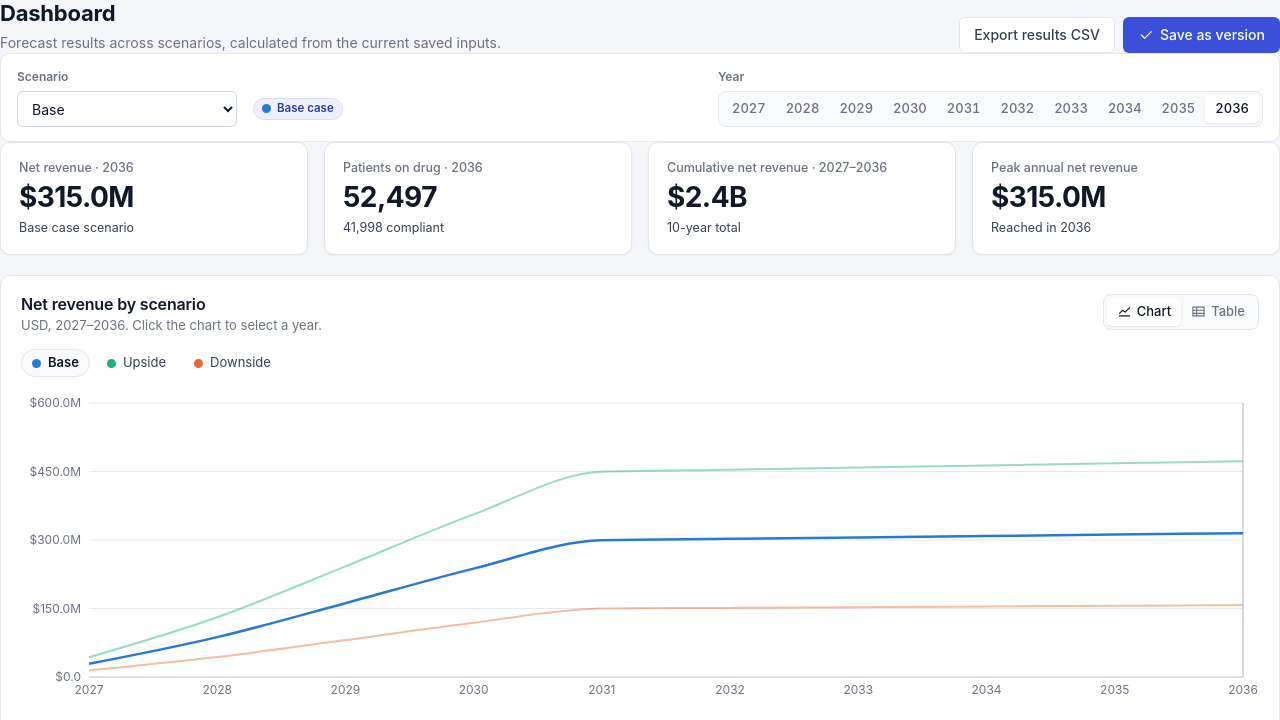
DashboardPage › notes when nothing was edited since the latest version
Click the button "Save as version" at [1201, 34], box [1123,16,1279,52]
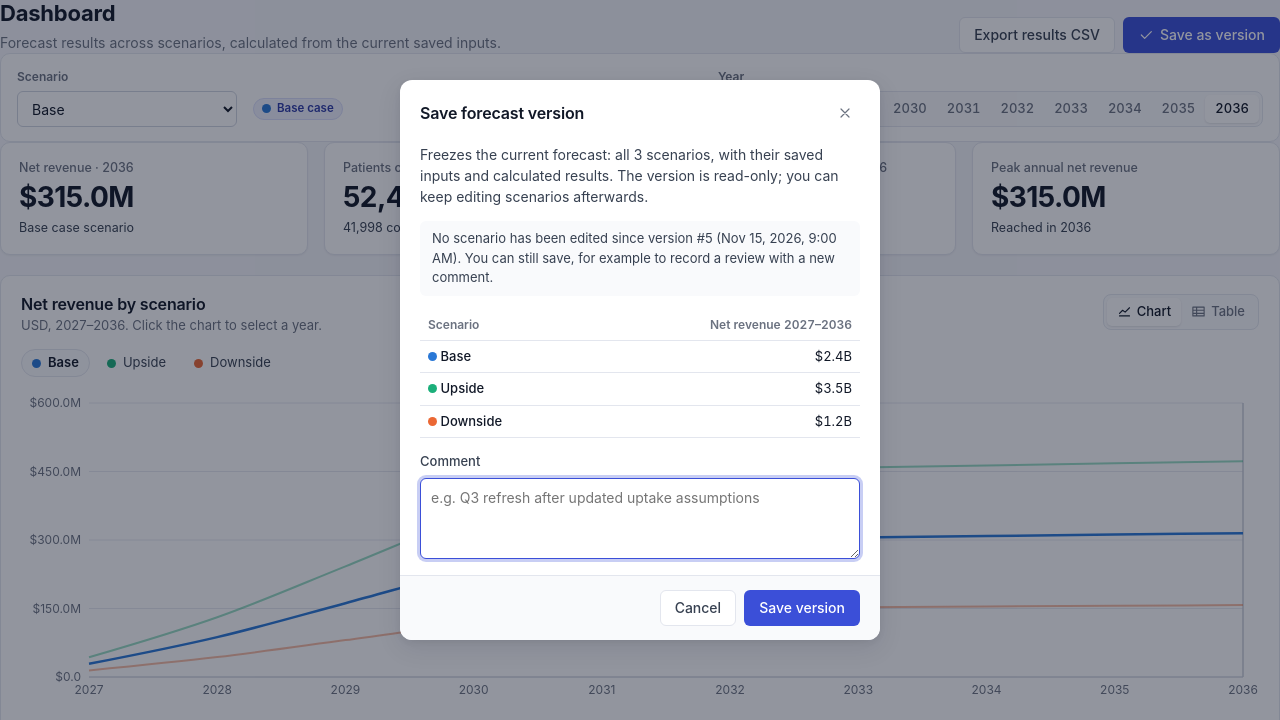
Result: the text "No scenario has been edited since version #5" is shown at [420,221,860,296]
Result: the button "Save version" is enabled at [744,590,860,626]
